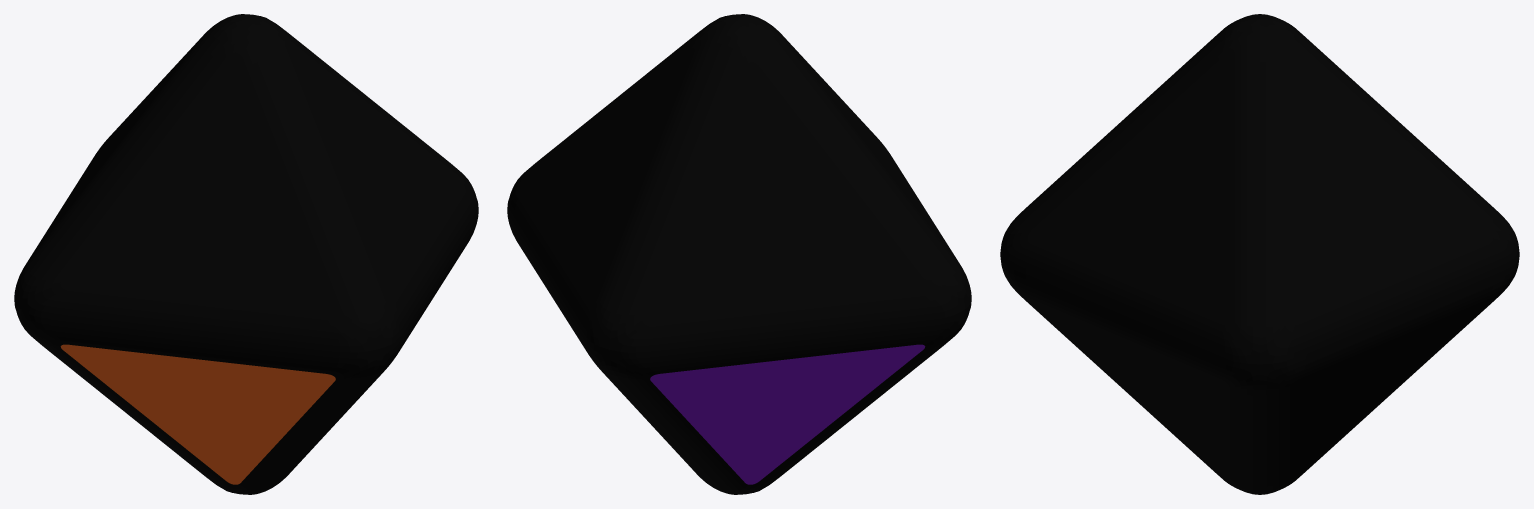
3 views of the same model, side by side, from view 1: azimuth 30°, elevation 25°; view 2: azimuth 150°, elevation 25°; view 3: azimuth 270°, elevation 25° (orthographic).
Visible parts, largest first — view 1: rd; view 2: rd; view 3: rd.
Part boxes in pixels (x1=…): rd: x1=14, y1=14, x2=478, y2=494; rd: x1=507, y1=14, x2=971, y2=494; rd: x1=1000, y1=14, x2=1519, y2=494.
Bounding box in the file's own units: 174 × 174 × 174.
